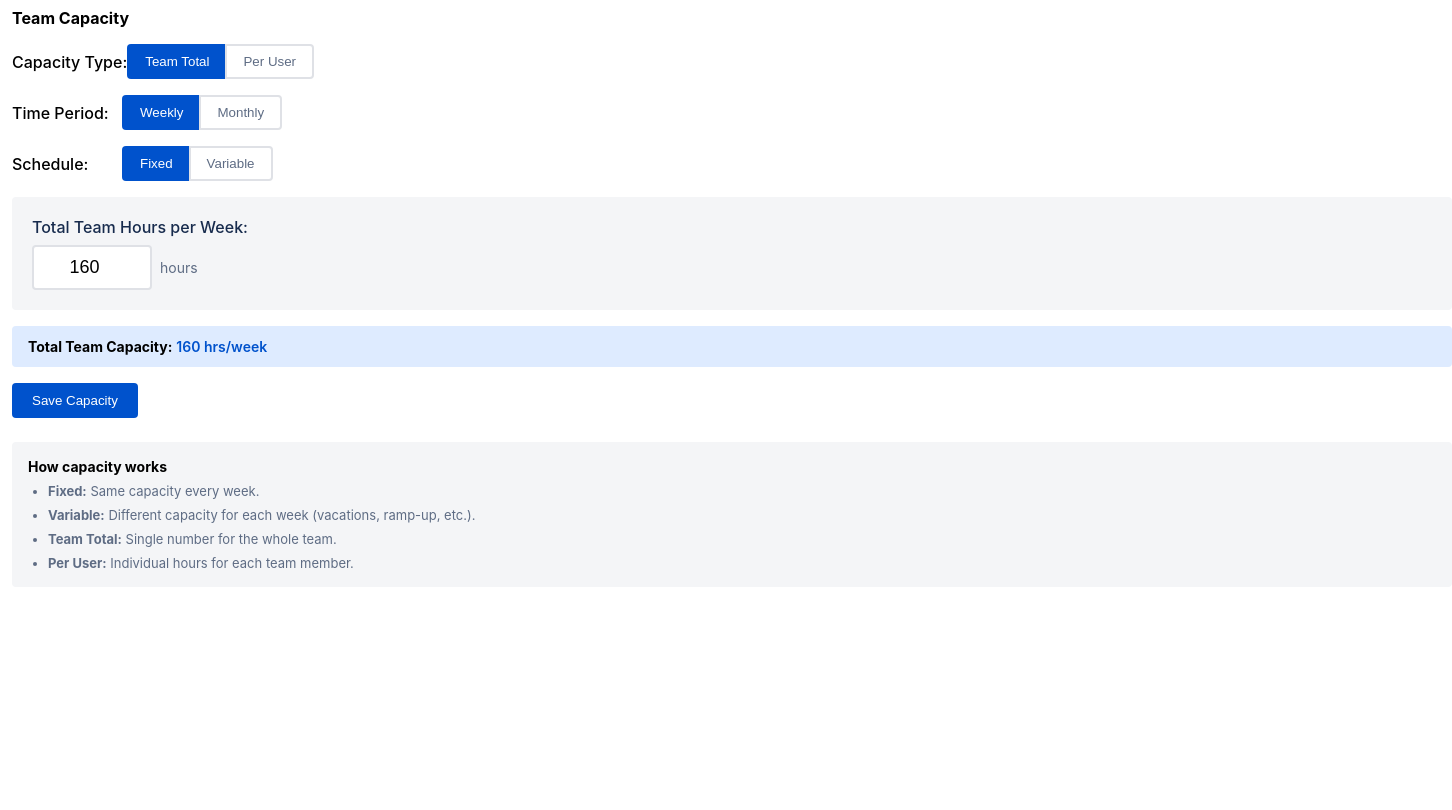
CapacityPanel › Variable Capacity Schedule › can remove a period
Click the button "Variable".
click(231, 164)  # box [189,146,272,181]
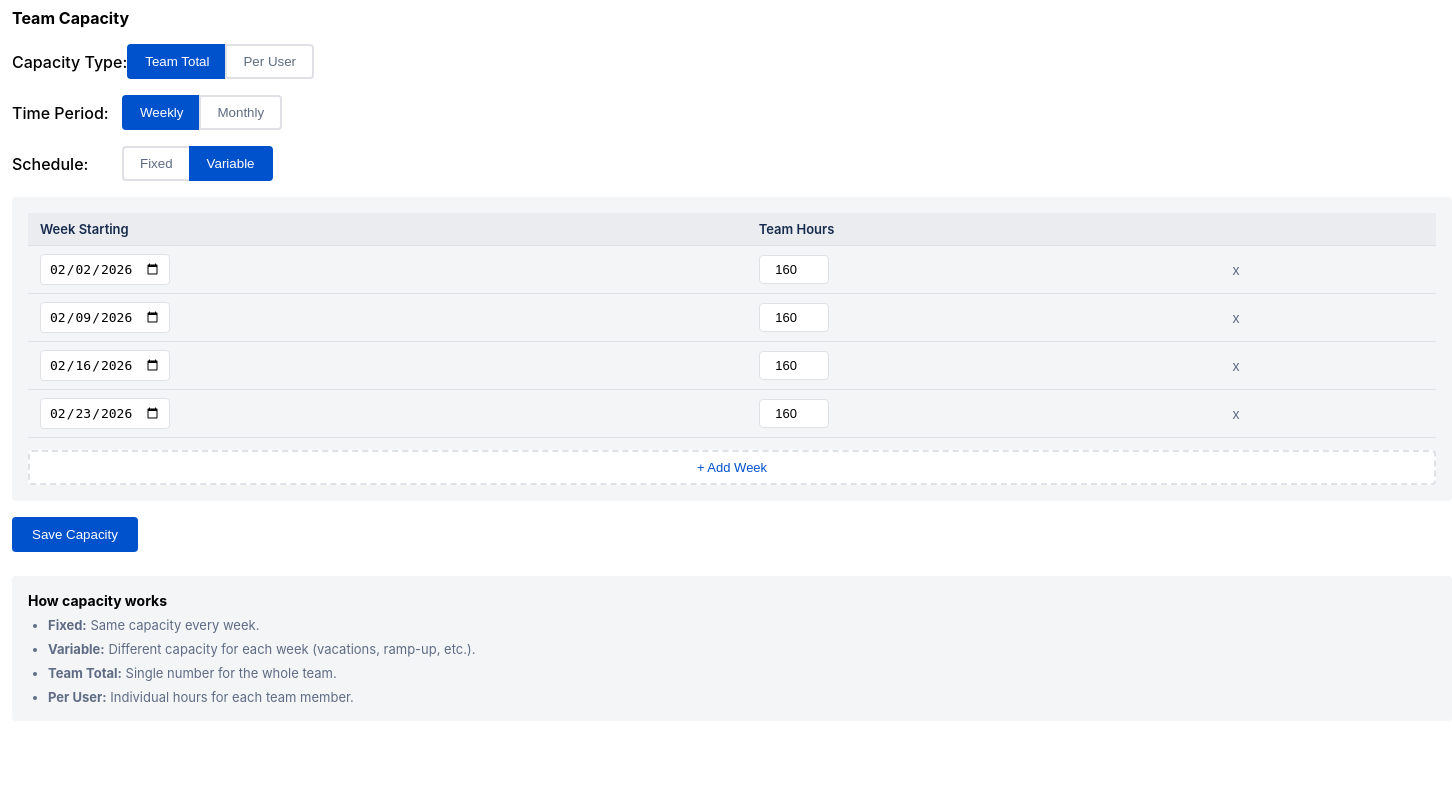
Click the 1st button titled "Remove period".
click(1236, 270)  # box [1224,258,1248,282]
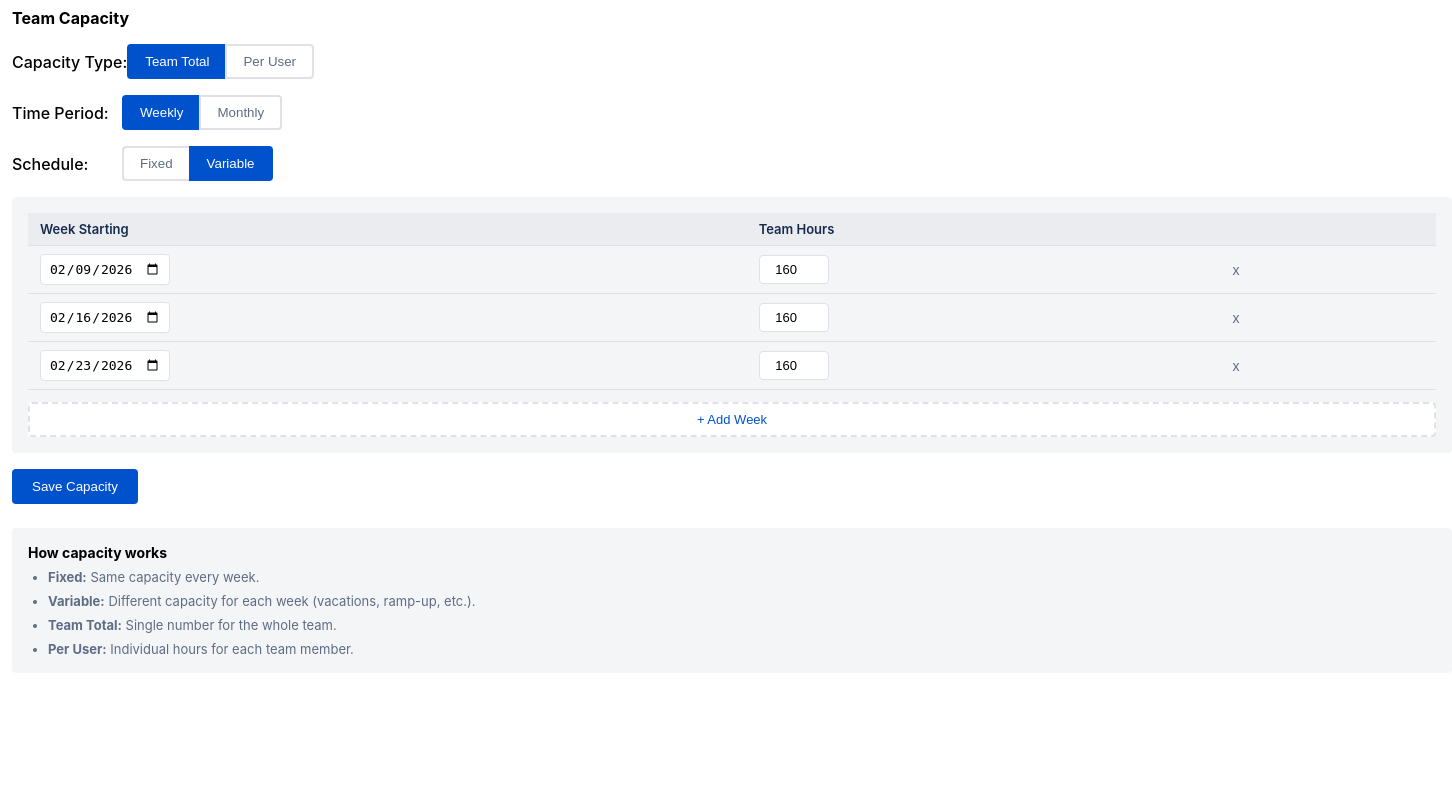
Expected: the number of date fields is 3, [40,254,170,285]; [40,302,170,333]; [40,350,170,381]
